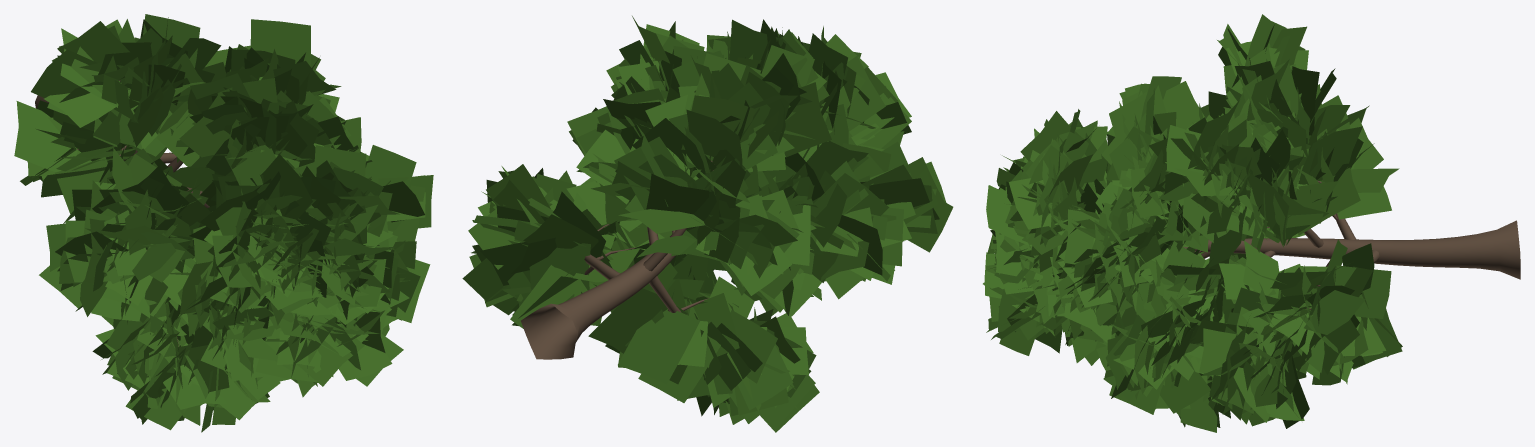
The model's file is tree.obj.
The picture shows the model from 3 angles, left to right: view 1: azimuth 30°, elevation 25°; view 2: azimuth 150°, elevation 25°; view 3: azimuth 270°, elevation 25°; orthographic projection. The views are drawn at different scales.
Parts seen in each view (by area): view 1: Leaves, Bark; view 2: Leaves, Bark; view 3: Leaves, Bark.
Part boxes in pixels (x1,y1,x2,y2): Leaves: [14, 14, 433, 432]; Bark: [35, 80, 209, 346]; Leaves: [462, 16, 953, 432]; Bark: [521, 160, 714, 359]; Leaves: [983, 14, 1402, 432]; Bark: [1183, 180, 1520, 309].
Bounding box in the file's own units: 6.99 × 6.47 × 8.38.
